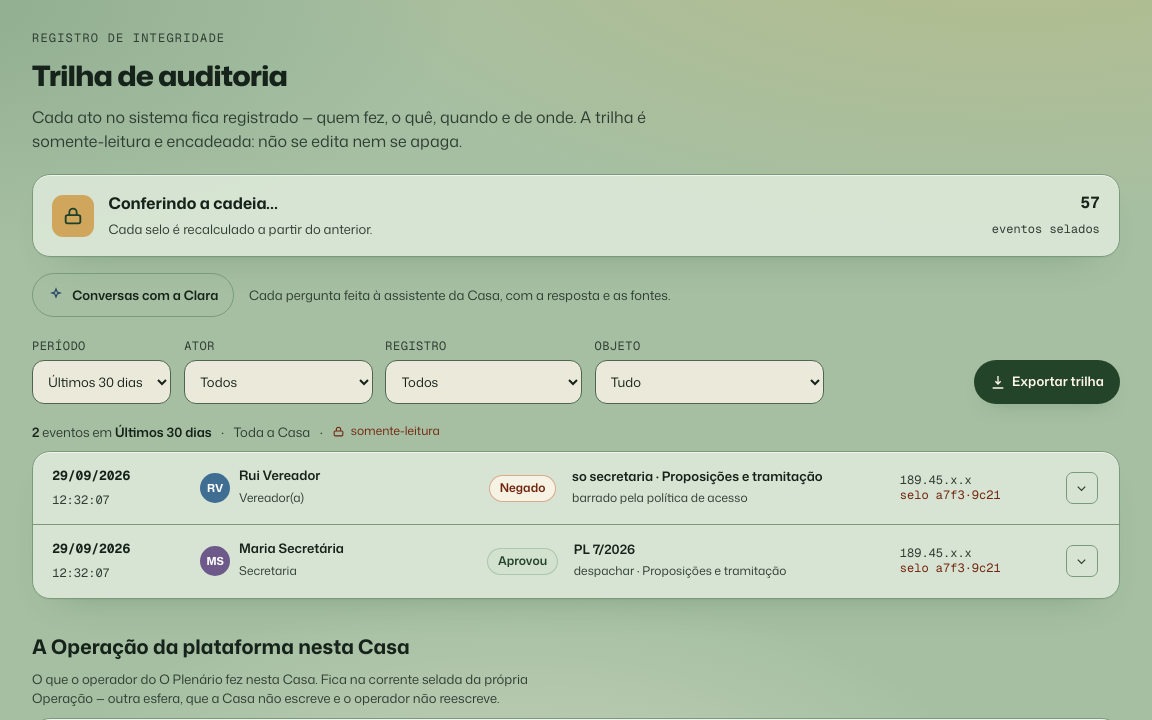
Test case: Trilha de auditoria (/auditoria) › o detalhe mostra o que o registro tem — os campos, a decisão e o selo encadeado, nunca conteúdo
The image size is (1152, 720).
Click the button named "Ver detalhes do evento nº 2" at (1082, 562), box [1066,546,1098,578]
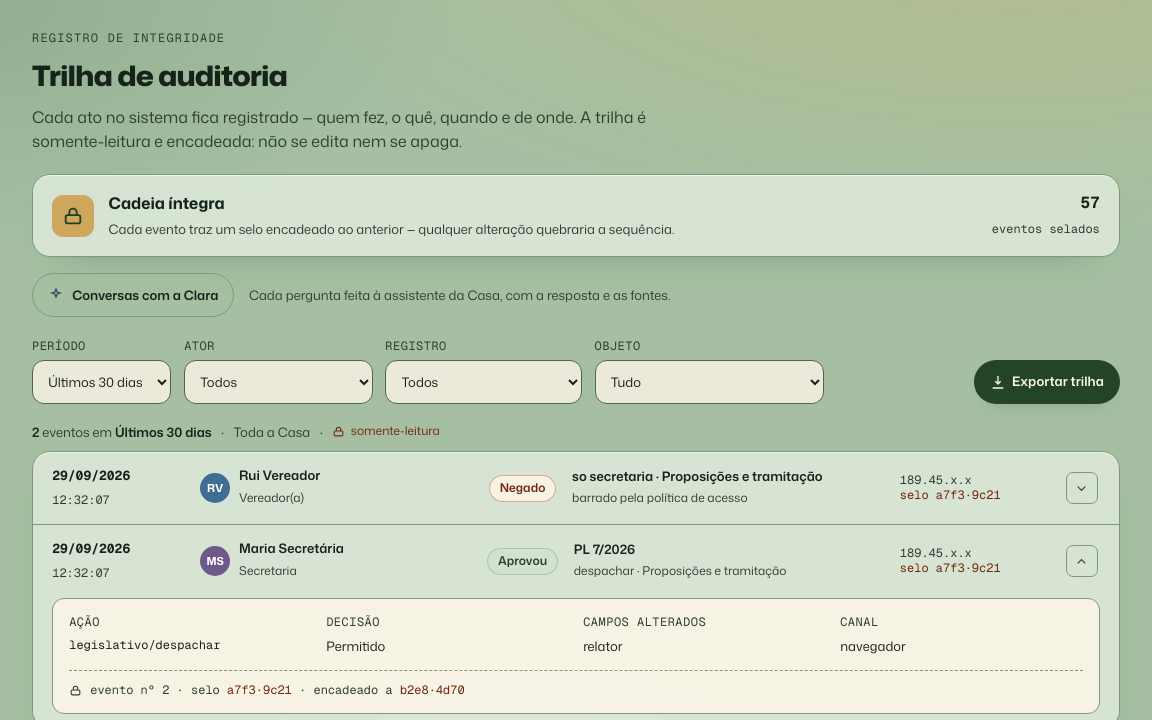
Expected: the text "Campos alterados" shows "relator", [583,637,622,655]
Expected: the text "Campos alterados" shows "encadeado a b2e8·4d70", [52,598,1100,714]
